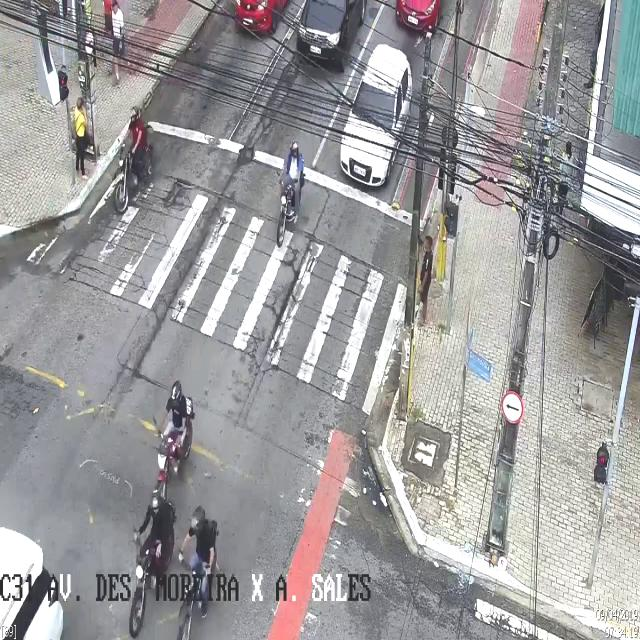Car: (0, 489, 89, 640), (338, 44, 412, 188), (301, 0, 370, 68), (232, 0, 292, 39), (393, 0, 448, 30)
Motorcycle: (128, 490, 174, 639), (178, 505, 218, 639), (154, 382, 194, 508), (113, 106, 153, 214), (276, 142, 304, 246)
